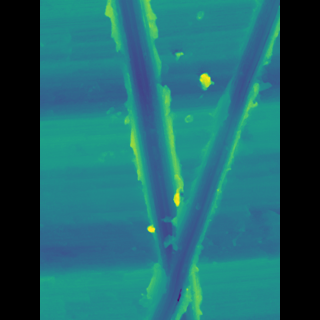Loch: (121, 0, 250, 320)
